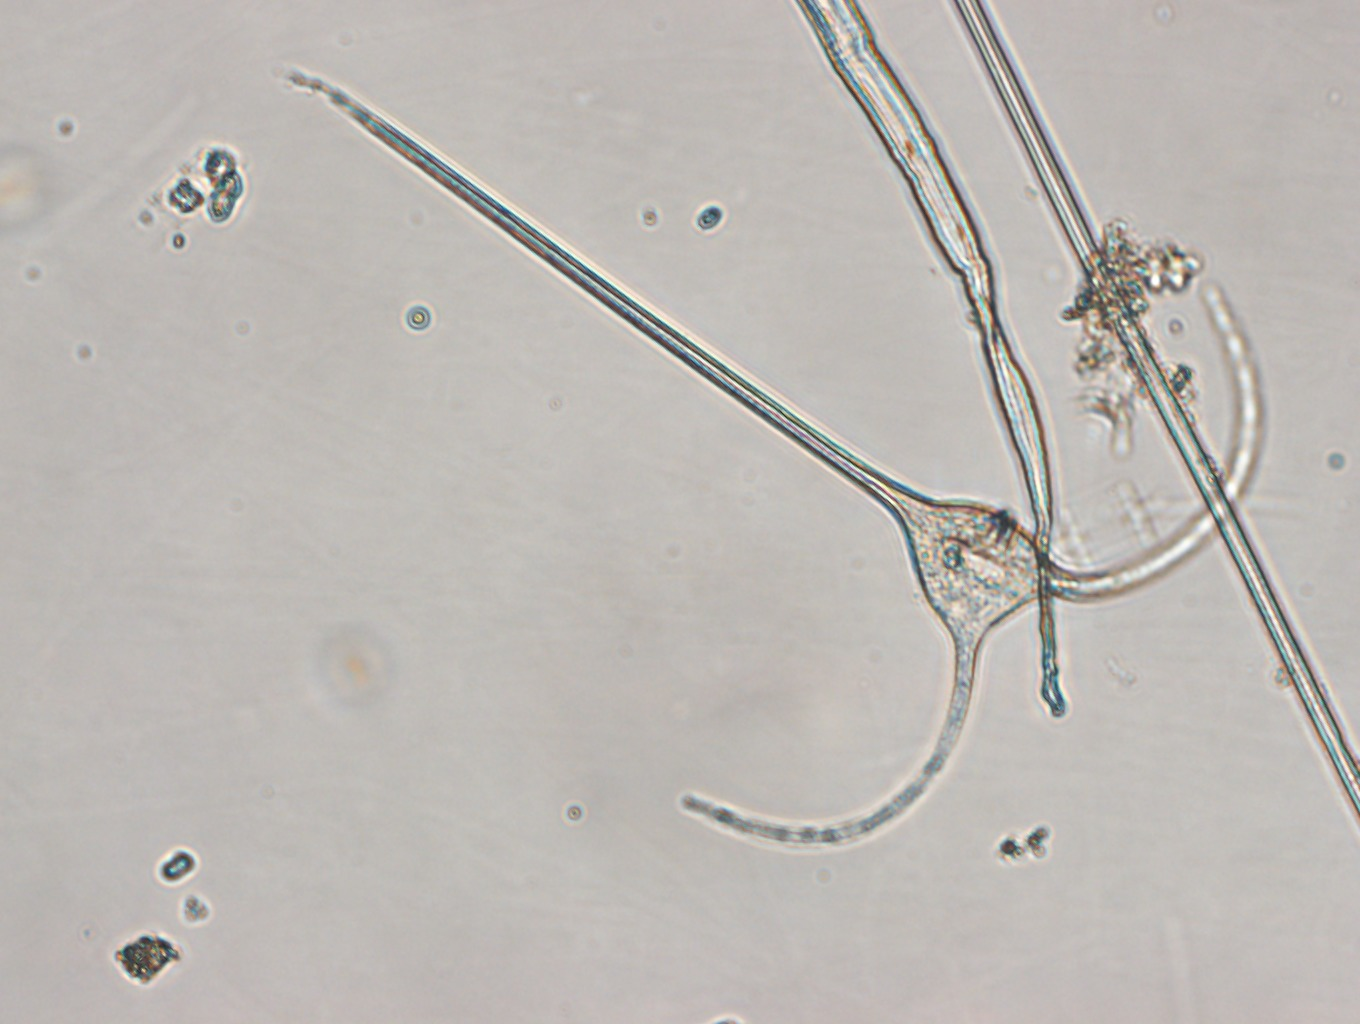ceratium trichoceros: (276, 65, 1279, 859)
